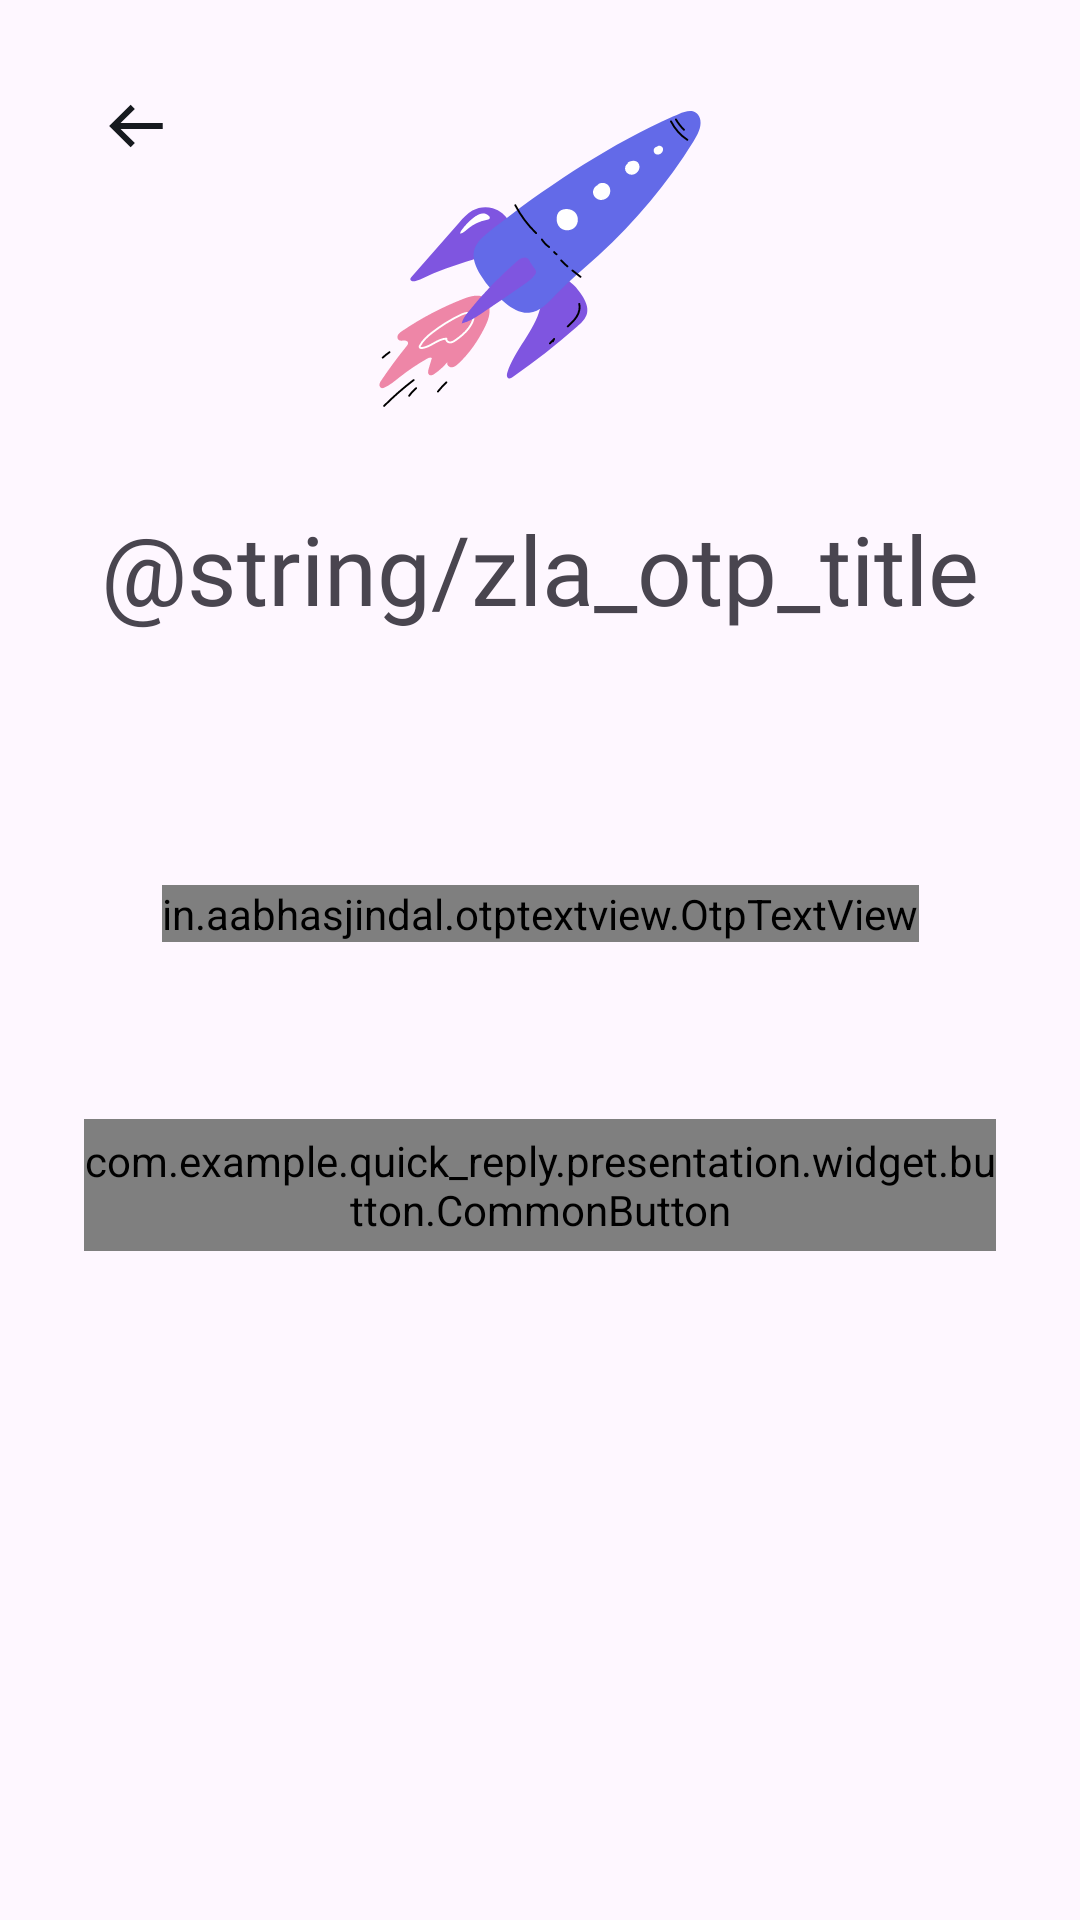

Point at icon controls on the screen. Image size 1080x1920, points as (x,y).
zla arrow left: (136,126)
